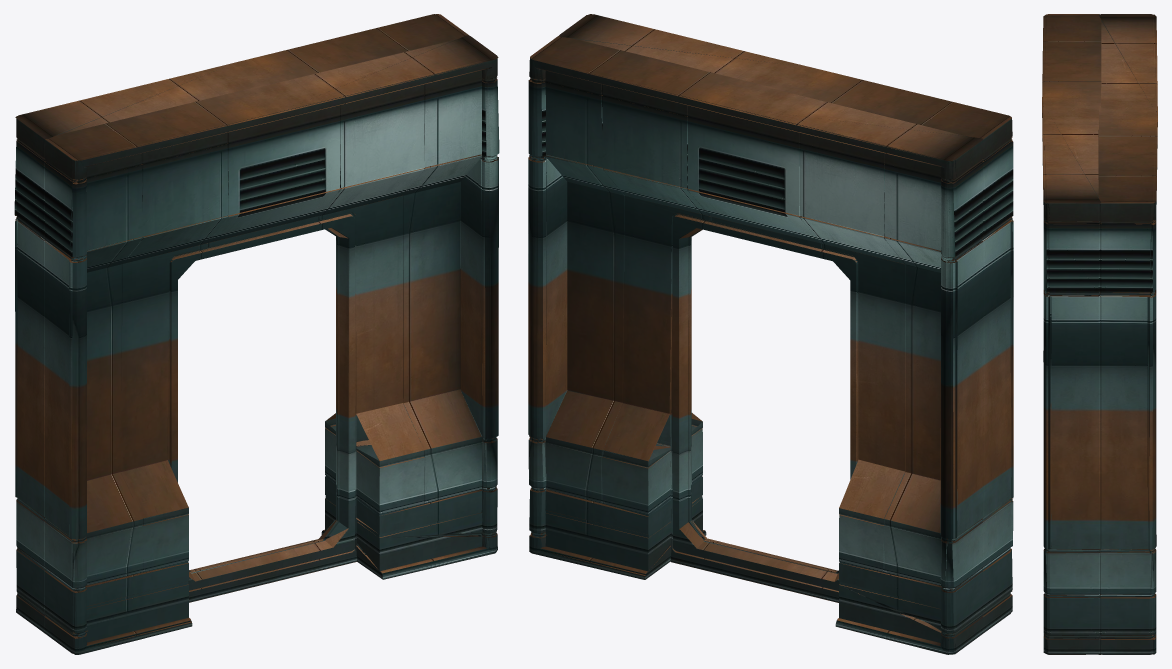
Rendered from Space_lock.glb.
The picture shows the model from 3 angles, left to right: view 1: azimuth 30°, elevation 25°; view 2: azimuth 150°, elevation 25°; view 3: azimuth 270°, elevation 25°; orthographic projection. The views are drawn at different scales.
Parts seen in each view (by area): view 1: geometry_0.001; view 2: geometry_0.001; view 3: geometry_0.001.
Boxes of the visible parts, box(x1,y1,x2,y2) form: geometry_0.001: box(14, 14, 499, 654); geometry_0.001: box(528, 14, 1013, 654); geometry_0.001: box(1042, 14, 1157, 654).
Size of the model in its own units: 0.8668 by 0.9531 by 0.2216.
Materials: 2 (2 with a texture image).
